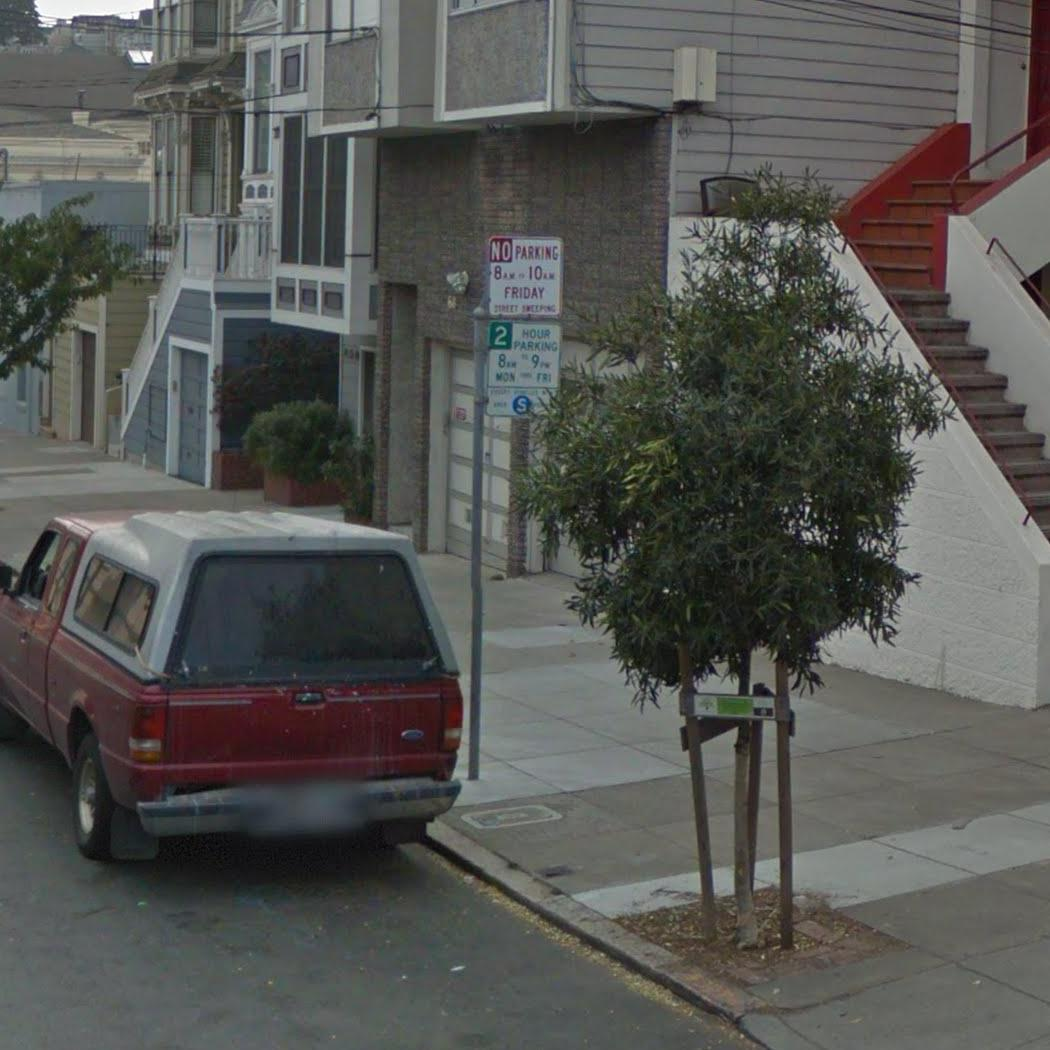2 Hour Parking: (483, 320, 565, 420)
No Parking: (484, 233, 566, 319)
